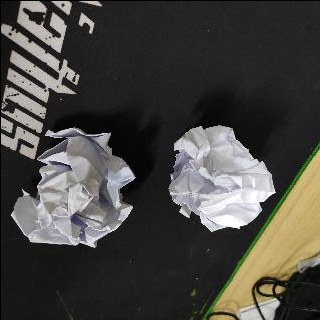8/可回收垃圾/纸: (11, 127, 137, 248), (168, 125, 277, 232)
